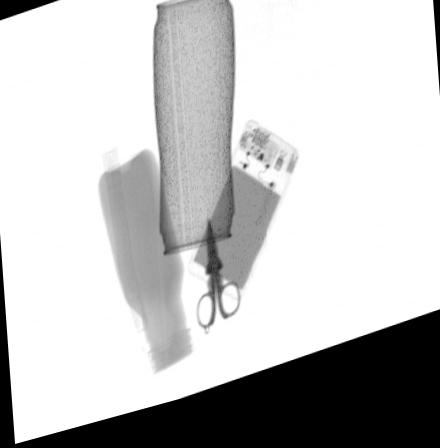Powerbank: (188, 133, 304, 314)
Scissors: (194, 222, 243, 341)
